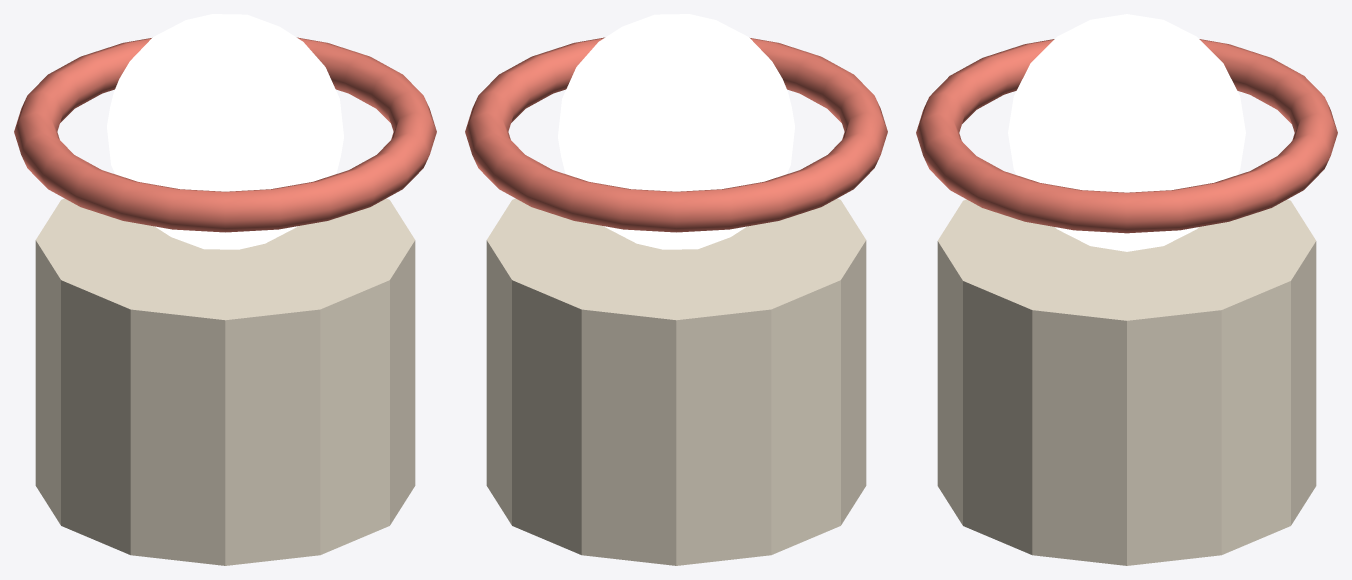
The model's file is beacon.glb.
The picture shows the model from 3 angles, left to right: view 1: azimuth 30°, elevation 25°; view 2: azimuth 150°, elevation 25°; view 3: azimuth 270°, elevation 25°; orthographic projection.
Visible parts, largest first — view 1: Beacon base, Beacon light, Beacon crown; view 2: Beacon base, Beacon light, Beacon crown; view 3: Beacon base, Beacon light, Beacon crown.
Boxes of the visible parts, box(x1,y1,x2,y2) form: Beacon base: box(35, 198, 415, 565); Beacon light: box(107, 14, 343, 249); Beacon crown: box(14, 37, 436, 232); Beacon base: box(486, 198, 866, 565); Beacon light: box(558, 14, 794, 249); Beacon crown: box(465, 37, 887, 232); Beacon base: box(937, 199, 1316, 565); Beacon light: box(1008, 14, 1245, 251); Beacon crown: box(916, 39, 1337, 233).
Size of the model in its own units: 0.78 by 0.94 by 0.78.
